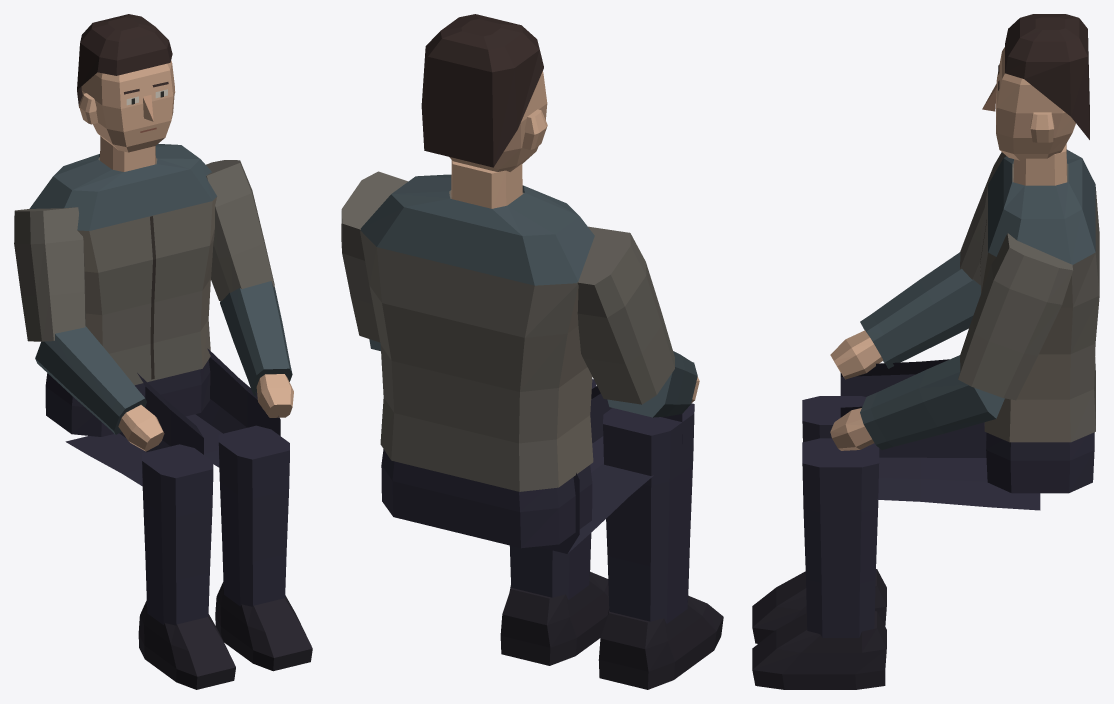
The model's file is npc sit.glb.
The picture shows the model from 3 angles, left to right: view 1: azimuth 30°, elevation 25°; view 2: azimuth 150°, elevation 25°; view 3: azimuth 270°, elevation 25°; orthographic projection. The views are drawn at different scales.
Visible parts, largest first — view 1: npc sit; view 2: npc sit; view 3: npc sit.
Part boxes in pixels (x1=…): npc sit: x1=14, y1=14, x2=312, y2=689; npc sit: x1=341, y1=14, x2=723, y2=689; npc sit: x1=752, y1=14, x2=1099, y2=689.
Size of the model in its own units: 0.5951 by 1.36 by 0.679.
Materials: 1 (1 with a texture image).
